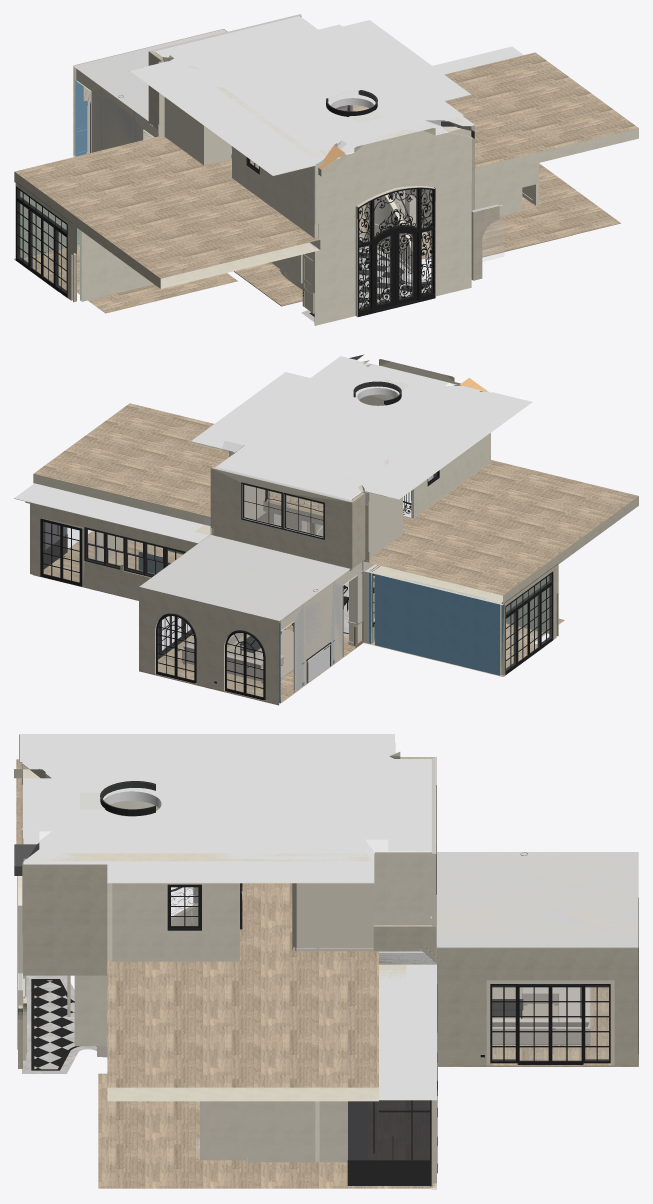
Rendered from family-room-b9e57a07a64a.glb.
3 renders of one model, top to bottom at view 1: azimuth 30°, elevation 25°; view 2: azimuth 150°, elevation 25°; view 3: azimuth 270°, elevation 25°, orthographic. The views are drawn at different scales.
Visible parts, largest first — view 1: family-room-look-2575515a05775d9e, family-room-look-e8793759323e04f0, family-room-look-9d91b47435c6fb33, family-room-look-34525a54e63b733b, family-room-look-3b0077416469e01b, family-room-look-d5a4a1b5d3594c04, family-room-look-5f56640b372ec5ce, family-room-look-746250f96522f643, family-room-4a969f5cc1ae3dfe, family-room-look-bce662e26d5a5947, family-room-look-d999b7e09afcf2f4, family-room-9d80b152e3f2ea10 (+30 smaller); view 2: family-room-look-2575515a05775d9e, family-room-look-e8793759323e04f0, family-room-look-9d91b47435c6fb33, family-room-4a969f5cc1ae3dfe, family-room-look-b19b106fc304963c, family-room-look-245f595ae2832e16, family-room-969b861f9850351e, family-room-look-bfb9fa537cd11d1d, family-room-look-9a0e9ee9b2a451d7, family-room-9d80b152e3f2ea10, family-room-look-5f56640b372ec5ce, family-room-55ff1dfd7b659ec1 (+27 smaller); view 3: family-room-look-2575515a05775d9e, family-room-look-e8793759323e04f0, family-room-look-9d91b47435c6fb33, family-room-4a969f5cc1ae3dfe, family-room-look-3b0077416469e01b, family-room-e706aa16b4547c37, family-room-look-62353aa10fc57f23, family-room-50d54560d247b537, family-room-look-c51ecd664a3b22a3, family-room-look-9a0e9ee9b2a451d7, family-room-look-5f56640b372ec5ce, family-room-look-69af8f587252f9fa (+28 smaller).
Part boxes in pixels (bbox=[...]): family-room-look-2575515a05775d9e: bbox=[14, 52, 638, 288]; family-room-look-e8793759323e04f0: bbox=[180, 23, 463, 157]; family-room-look-9d91b47435c6fb33: bbox=[130, 16, 474, 175]; family-room-look-34525a54e63b733b: bbox=[314, 126, 471, 244]; family-room-look-3b0077416469e01b: bbox=[14, 163, 620, 306]; family-room-look-d5a4a1b5d3594c04: bbox=[314, 208, 471, 325]; family-room-look-5f56640b372ec5ce: bbox=[254, 81, 404, 139]; family-room-look-746250f96522f643: bbox=[232, 146, 317, 238]; family-room-4a969f5cc1ae3dfe: bbox=[73, 29, 226, 120]; family-room-look-bce662e26d5a5947: bbox=[357, 187, 435, 316]; family-room-look-d999b7e09afcf2f4: bbox=[80, 230, 153, 301]; family-room-9d80b152e3f2ea10: bbox=[76, 69, 158, 152]; family-room-look-2575515a05775d9e: bbox=[33, 403, 638, 604]; family-room-look-e8793759323e04f0: bbox=[222, 356, 481, 481]; family-room-look-9d91b47435c6fb33: bbox=[191, 362, 532, 500]; family-room-4a969f5cc1ae3dfe: bbox=[139, 534, 349, 621]; family-room-look-b19b106fc304963c: bbox=[375, 573, 501, 675]; family-room-look-245f595ae2832e16: bbox=[210, 467, 352, 568]; family-room-969b861f9850351e: bbox=[139, 587, 280, 704]; family-room-look-bfb9fa537cd11d1d: bbox=[30, 502, 197, 600]; family-room-look-9a0e9ee9b2a451d7: bbox=[14, 483, 208, 543]; family-room-9d80b152e3f2ea10: bbox=[280, 562, 362, 690]; family-room-look-5f56640b372ec5ce: bbox=[324, 377, 464, 430]; family-room-55ff1dfd7b659ec1: bbox=[281, 562, 362, 692]; family-room-look-2575515a05775d9e: bbox=[16, 759, 378, 1101]; family-room-look-e8793759323e04f0: bbox=[39, 756, 388, 861]; family-room-look-9d91b47435c6fb33: bbox=[19, 734, 431, 883]; family-room-4a969f5cc1ae3dfe: bbox=[436, 852, 638, 948]; family-room-look-3b0077416469e01b: bbox=[98, 920, 436, 1188]; family-room-e706aa16b4547c37: bbox=[437, 948, 633, 1065]; family-room-look-62353aa10fc57f23: bbox=[23, 865, 112, 975]; family-room-50d54560d247b537: bbox=[436, 852, 638, 948]; family-room-look-c51ecd664a3b22a3: bbox=[112, 883, 239, 961]; family-room-look-9a0e9ee9b2a451d7: bbox=[379, 964, 436, 1100]; family-room-look-5f56640b372ec5ce: bbox=[83, 756, 196, 825]; family-room-look-69af8f587252f9fa: bbox=[292, 883, 373, 947].
Size of the model in its own units: 21.02 by 7.02 by 16.88.
69 materials, 12 textured.
